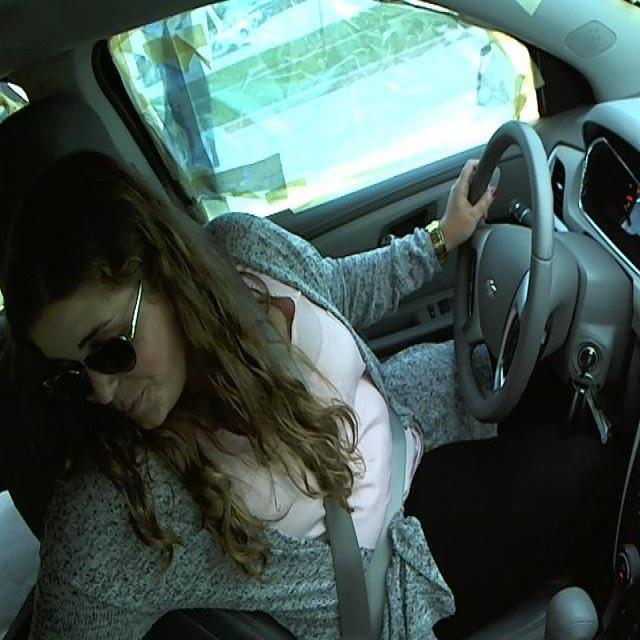seatbelt: (326, 468, 399, 636)
